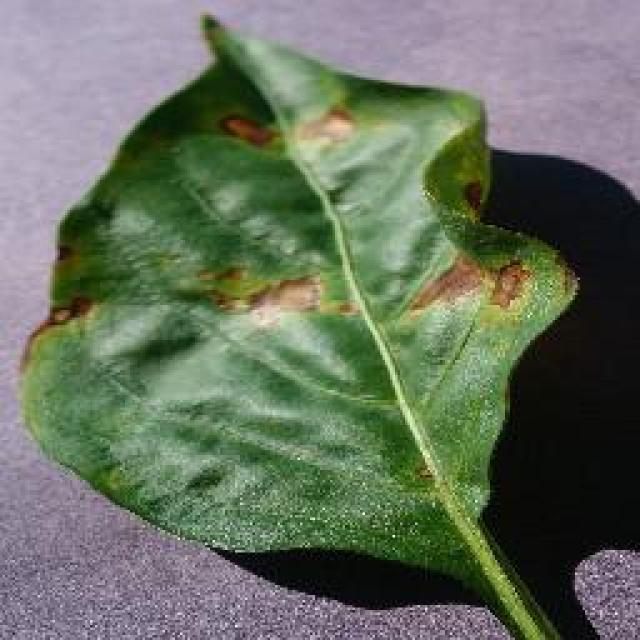Chilli_Bacterial_Spot: (15, 10, 583, 578), (190, 258, 358, 332), (403, 248, 535, 330), (212, 100, 360, 155), (243, 270, 325, 328), (192, 258, 268, 312), (292, 100, 358, 150), (482, 255, 532, 313), (217, 110, 275, 150), (43, 292, 95, 328), (458, 175, 488, 217), (408, 458, 438, 488), (43, 300, 75, 328)
